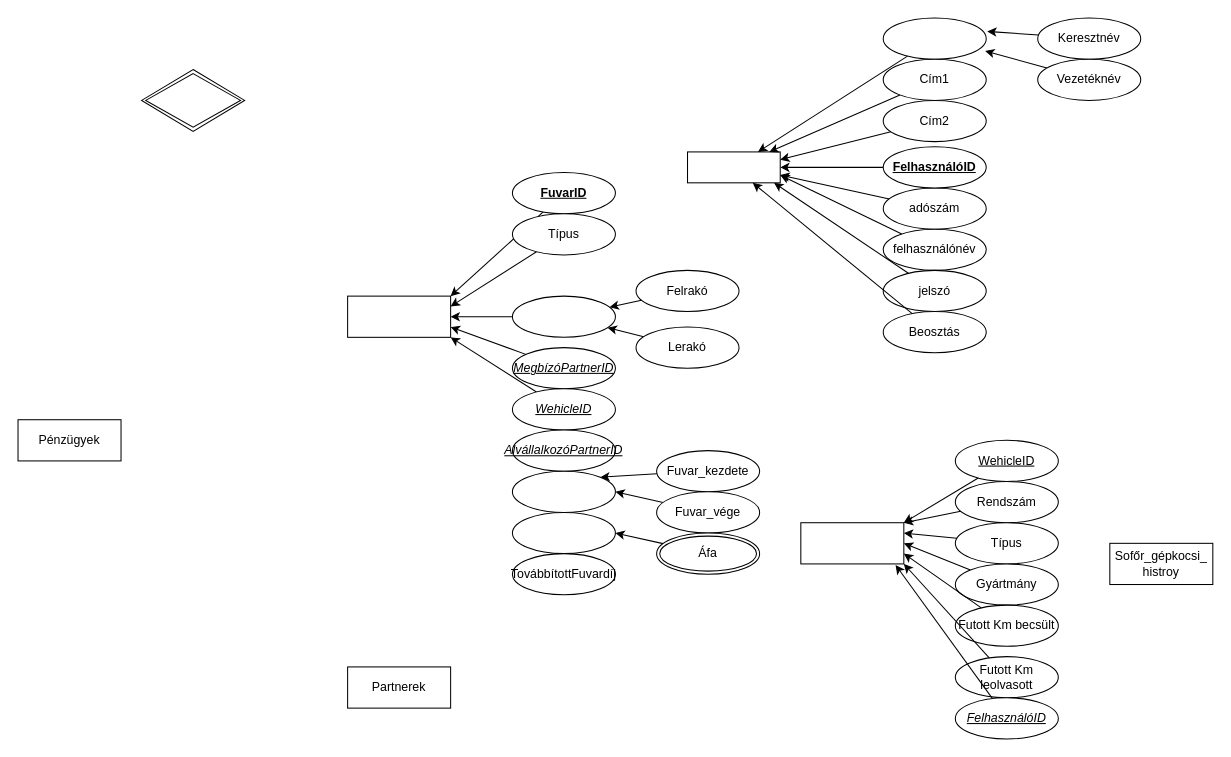
This 1231x757 diagram has some shape labels left out. Each missing label, with the box of its shape:
Felhasználók: (686, 151, 780, 183)
Fuvardíj: (511, 511, 615, 554)
FuvarIdőtartam: (511, 470, 615, 512)
Fuvarok: (347, 295, 451, 337)
Gépkocsik: (800, 522, 904, 564)
Név: (882, 17, 986, 59)
Relationship: (141, 68, 245, 131)
Viszonylat: (511, 295, 615, 337)
